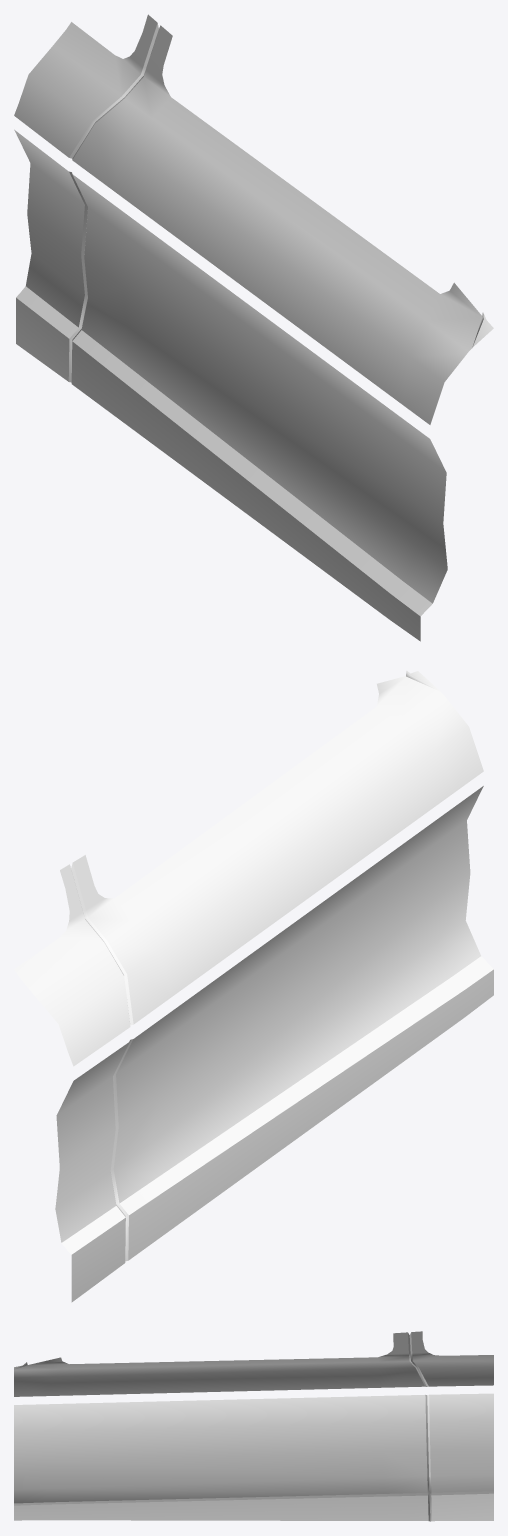
The picture shows the model from 3 angles, top to bottom: view 1: azimuth 30°, elevation 25°; view 2: azimuth 150°, elevation 25°; view 3: azimuth 270°, elevation 25°; orthographic projection. The views are drawn at different scales.
Size of the model in its own units: 0.1107 by 0.5075 by 1.05.
Materials: 1 (1 with a texture image).
